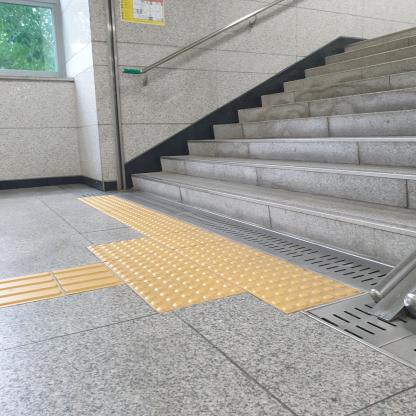go: (0, 271, 67, 309), (51, 262, 126, 295)
stop: (126, 266, 247, 313), (204, 254, 319, 292), (103, 249, 203, 283), (172, 239, 267, 266), (86, 237, 172, 262), (148, 228, 229, 250), (130, 220, 200, 237), (114, 213, 177, 227), (101, 207, 160, 218), (90, 200, 144, 212), (77, 195, 127, 206)
